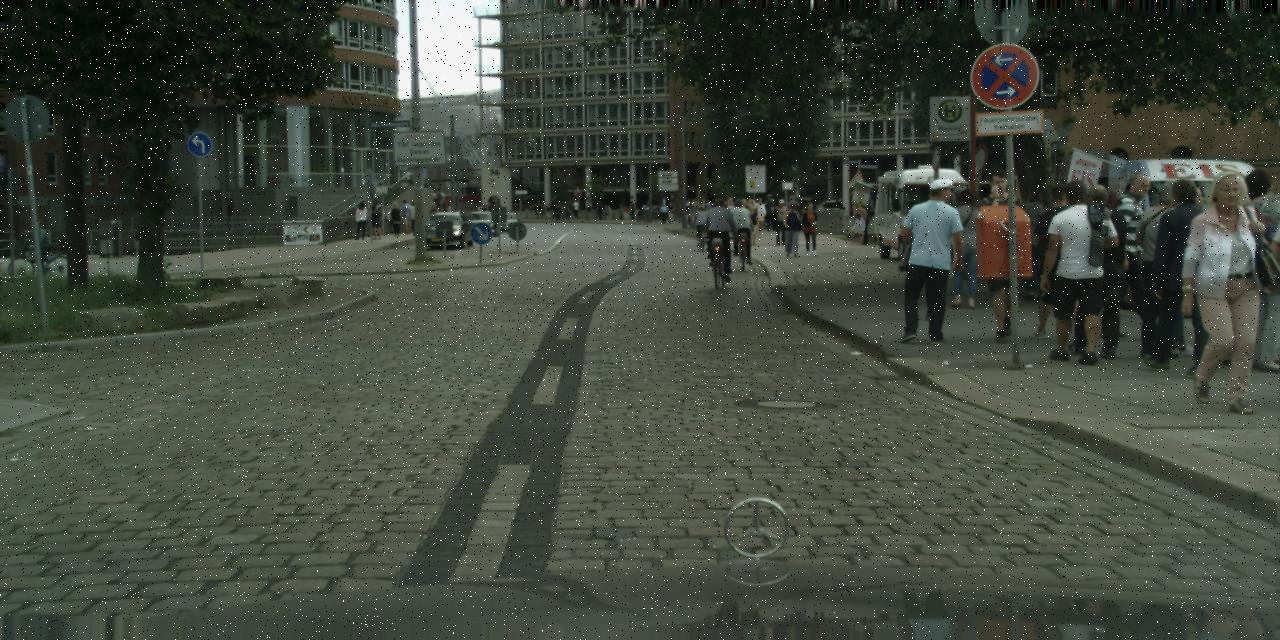ped: (1176, 168, 1273, 407), (1140, 176, 1221, 373), (1037, 179, 1112, 362), (1124, 180, 1197, 358), (1059, 184, 1129, 357), (1219, 169, 1279, 370), (1151, 185, 1221, 357), (967, 167, 1036, 337), (1105, 172, 1174, 342), (898, 175, 966, 344), (1027, 183, 1090, 339), (909, 192, 960, 319), (942, 189, 990, 306), (1012, 186, 1058, 300), (703, 198, 733, 273), (727, 199, 752, 259), (800, 202, 821, 256), (780, 204, 801, 256), (28, 220, 48, 266), (855, 196, 874, 244), (771, 199, 790, 245), (848, 198, 866, 244), (743, 203, 760, 245), (751, 197, 767, 236), (785, 194, 801, 233), (368, 198, 383, 238), (353, 202, 368, 240), (388, 201, 402, 236), (406, 200, 420, 234), (763, 194, 777, 228), (694, 206, 708, 240), (400, 200, 412, 233), (696, 199, 708, 226), (723, 197, 733, 224), (689, 200, 699, 226), (738, 198, 748, 224), (745, 198, 755, 224), (428, 202, 438, 226), (685, 200, 694, 224), (692, 200, 701, 224), (571, 198, 579, 218), (704, 199, 712, 219), (866, 200, 874, 220), (660, 203, 668, 223), (628, 200, 636, 219), (644, 200, 652, 219), (551, 199, 558, 220), (554, 202, 562, 220), (682, 200, 689, 220), (596, 200, 603, 218), (666, 202, 673, 220), (622, 203, 628, 219), (539, 203, 545, 218), (544, 203, 550, 218), (564, 204, 570, 218), (605, 204, 611, 218), (586, 204, 591, 220), (487, 202, 492, 216), (447, 203, 452, 216), (603, 205, 608, 218), (482, 204, 486, 216), (440, 204, 444, 216), (709, 199, 713, 210), (477, 204, 481, 214)
